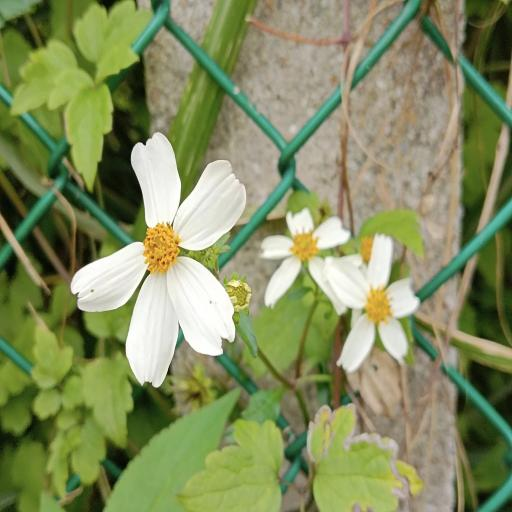Bidens: (70, 131, 250, 390), (324, 232, 422, 375)
